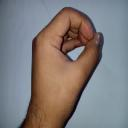hand: (31, 7, 104, 123)
